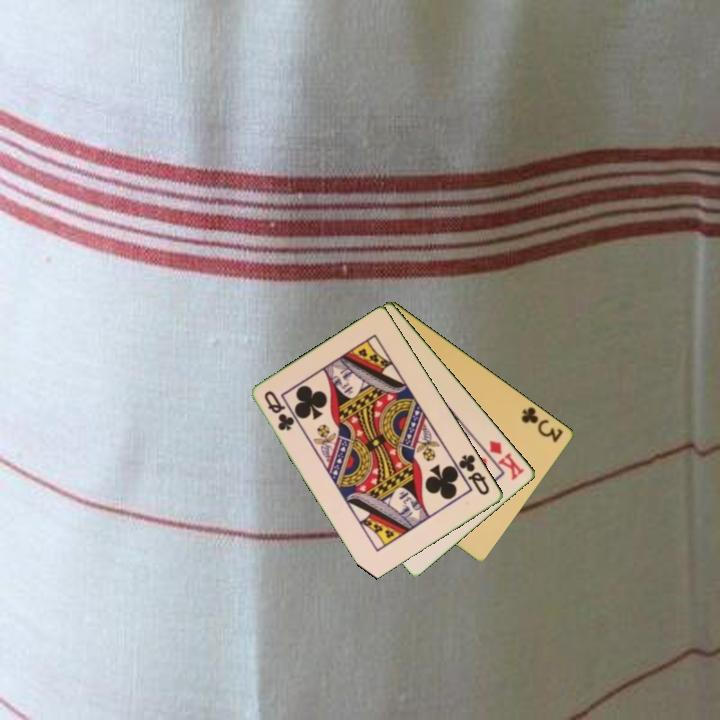3c: (518, 403, 566, 446)
Kd: (486, 437, 528, 483)
Qc: (455, 450, 493, 498), (261, 387, 298, 434)
